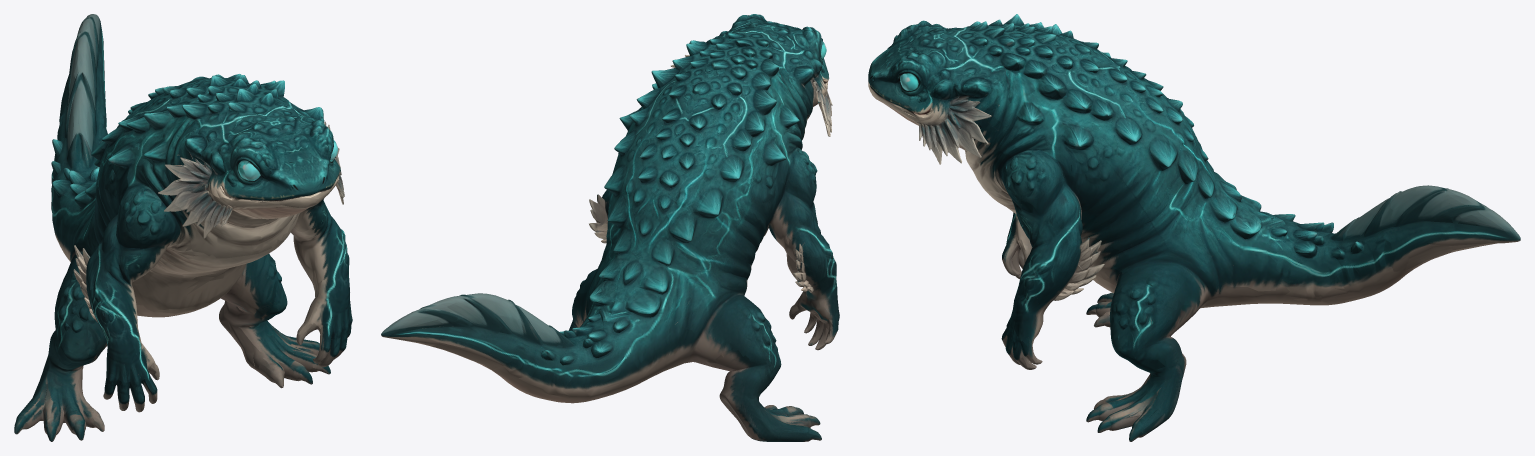
Rendered from paddlenewt_a.glb.
The picture shows the model from 3 angles, left to right: view 1: azimuth 30°, elevation 25°; view 2: azimuth 150°, elevation 25°; view 3: azimuth 270°, elevation 25°; orthographic projection. The views are drawn at different scales.
Parts seen in each view (by area): view 1: Mesh_0; view 2: Mesh_0; view 3: Mesh_0.
Part boxes in pixels (left/top/right/bottom): Mesh_0: left=14, top=14, right=352, bottom=441; Mesh_0: left=381, top=14, right=839, bottom=441; Mesh_0: left=868, top=14, right=1520, bottom=441.
Bounding box in the file's own units: 1.02 × 1.09 × 1.9.
Materials: 1 (1 with a texture image).
